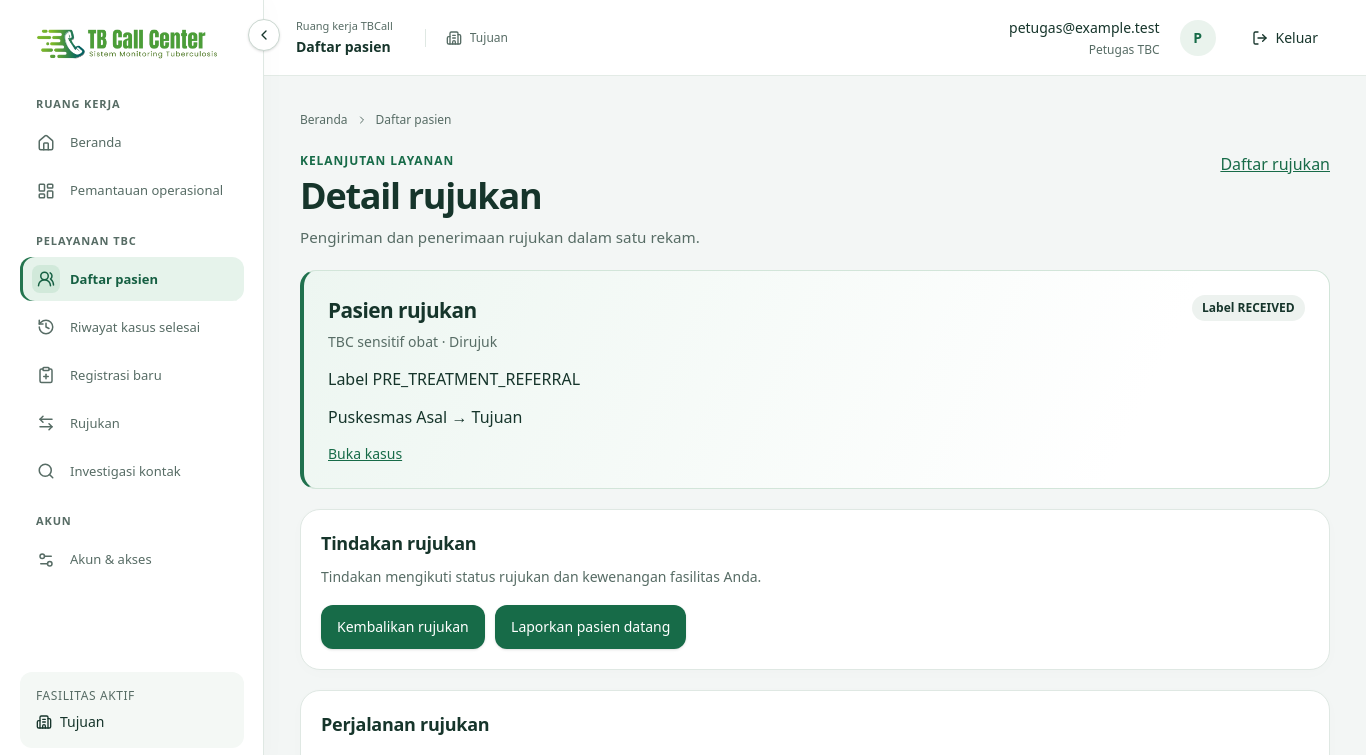
Test case: referral report submits actual GET ETag and only transition fields
Step 1. Click the button "Laporkan pasien datang" → [591, 628], box [495,606,686,650]
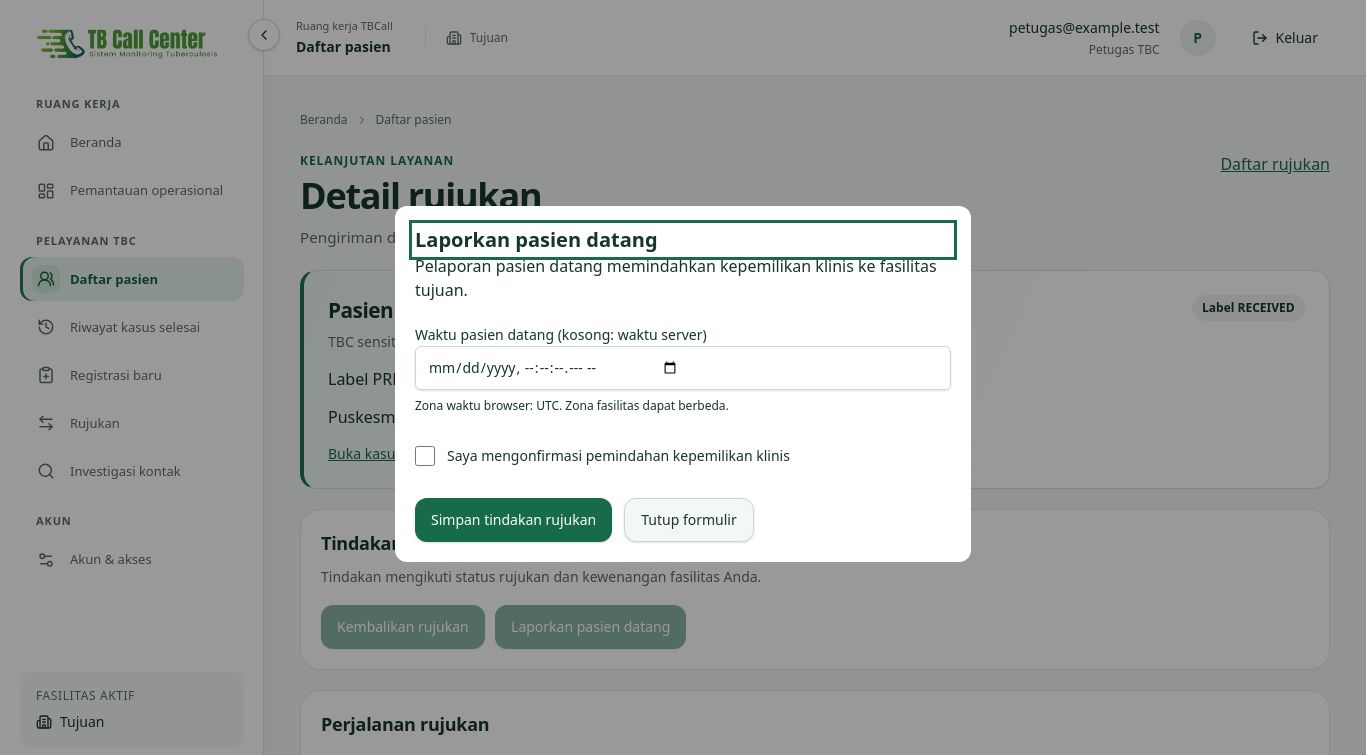
Step 2. Click the button "Simpan tindakan rujukan" → [514, 520], box [415,498,612,542]
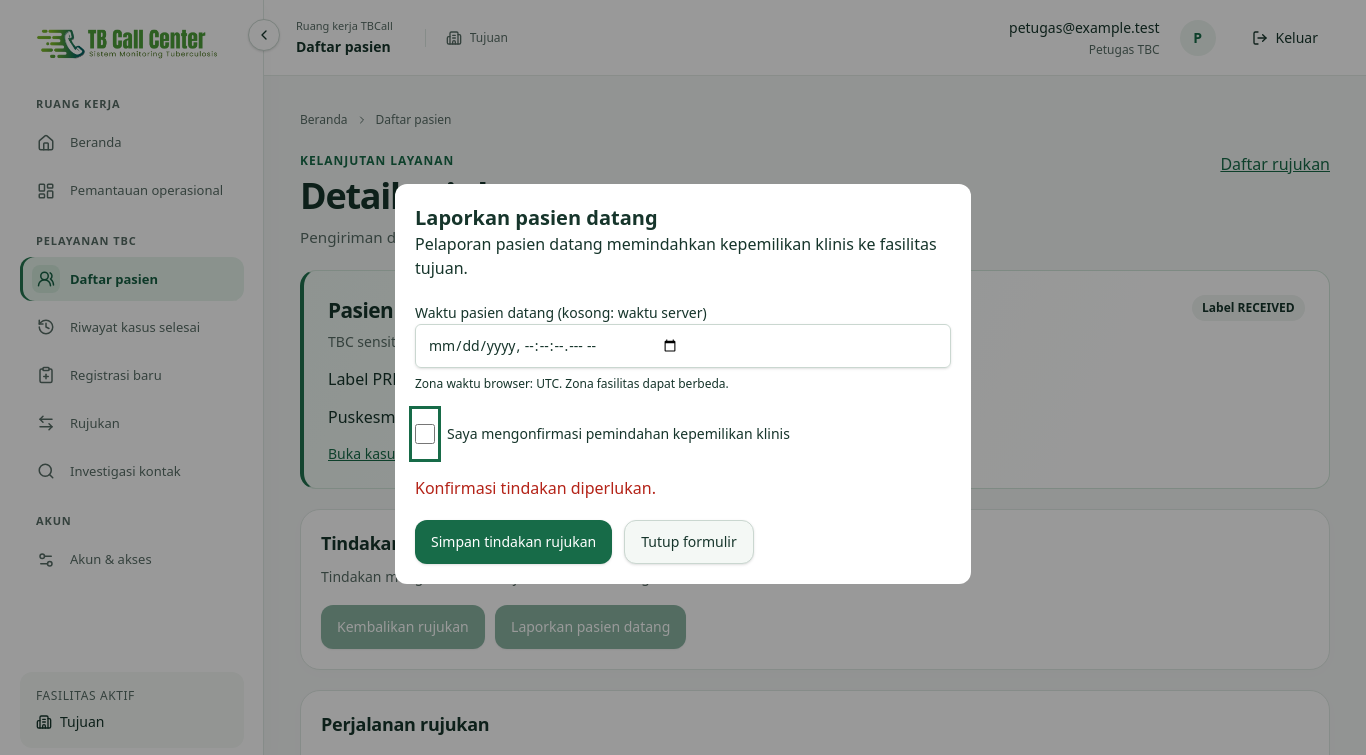
Step 3. Click the checkbox labelled "Saya mengonfirmasi pemindahan kepemilikan klinis" → [425, 434], box [415,412,435,456]
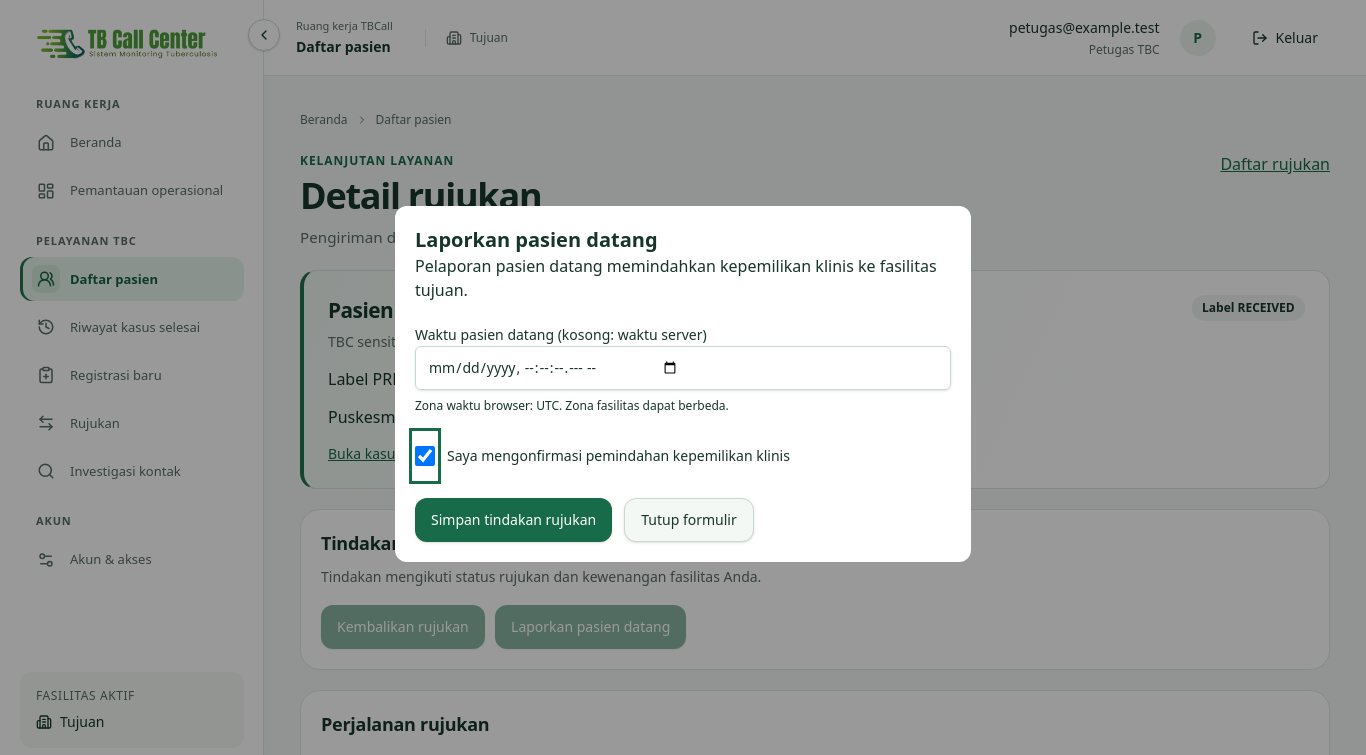
Step 4. Click the button "Simpan tindakan rujukan" → [514, 520], box [415,498,612,542]
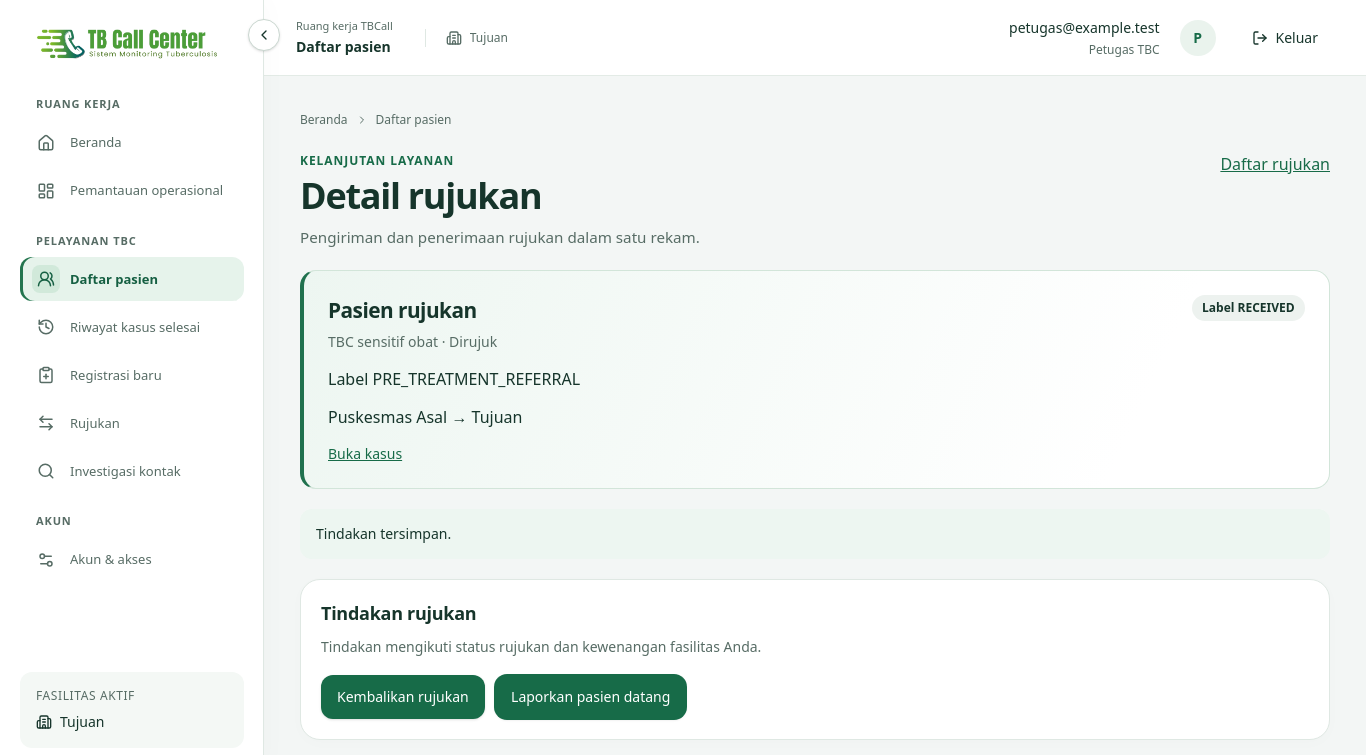
expect the text "Tindakan tersimpan." is shown: met, box [300,510,1330,559]
